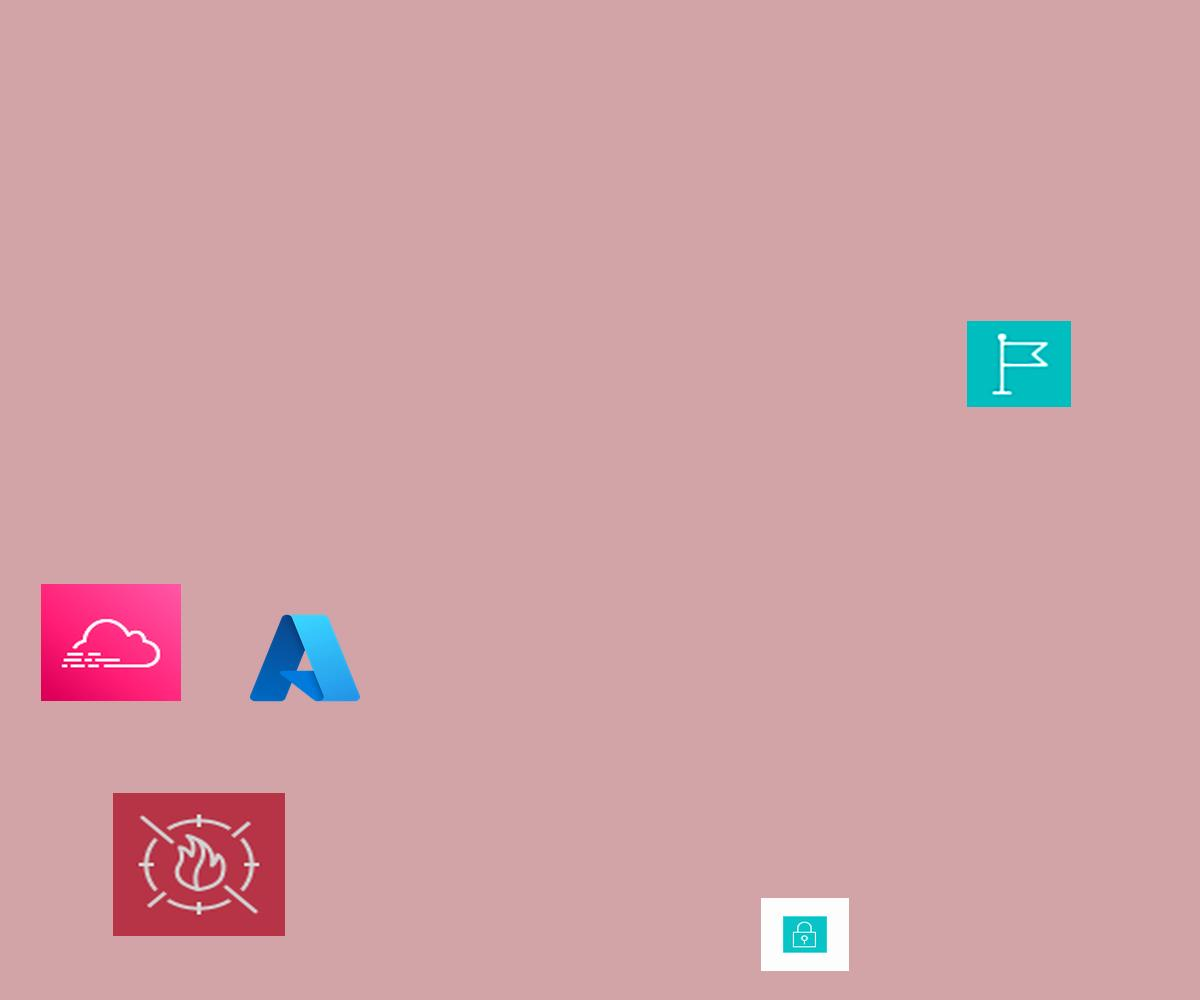AWS-CloudTrail: (41, 584, 181, 701)
AWS-Private-subnet: (761, 898, 849, 971)
AWS-Region: (967, 321, 1071, 407)
AWS-WAF: (113, 793, 285, 936)
Azure_services: (245, 608, 365, 708)
